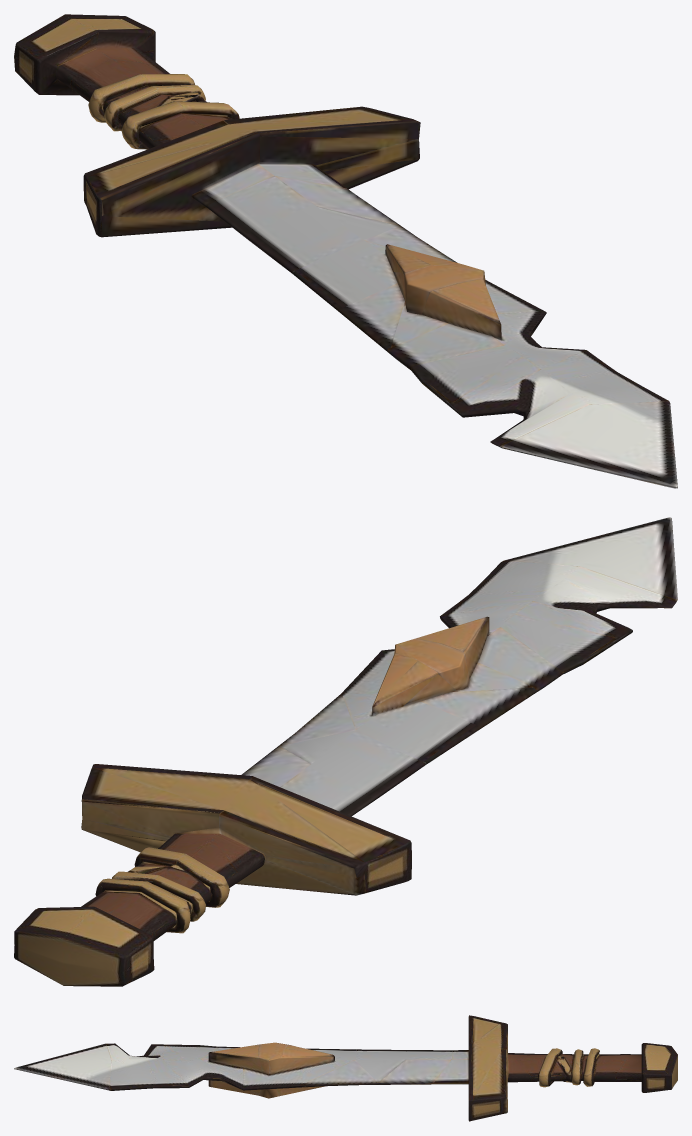
File: rusty_sword.glb
The picture shows the model from 3 angles, top to bottom: view 1: azimuth 30°, elevation 25°; view 2: azimuth 150°, elevation 25°; view 3: azimuth 270°, elevation 25°; orthographic projection. The views are drawn at different scales.
Visible parts, largest first — view 1: rusty_sword; view 2: rusty_sword; view 3: rusty_sword.
Part boxes in pixels (box(x1,y1,x2,y2)): rusty_sword: box(14, 14, 677, 488); rusty_sword: box(14, 517, 677, 986); rusty_sword: box(14, 1015, 677, 1121).
Bounding box in the file's own units: 0.3027 × 0.0842 × 1.
1 material, 1 textured.
